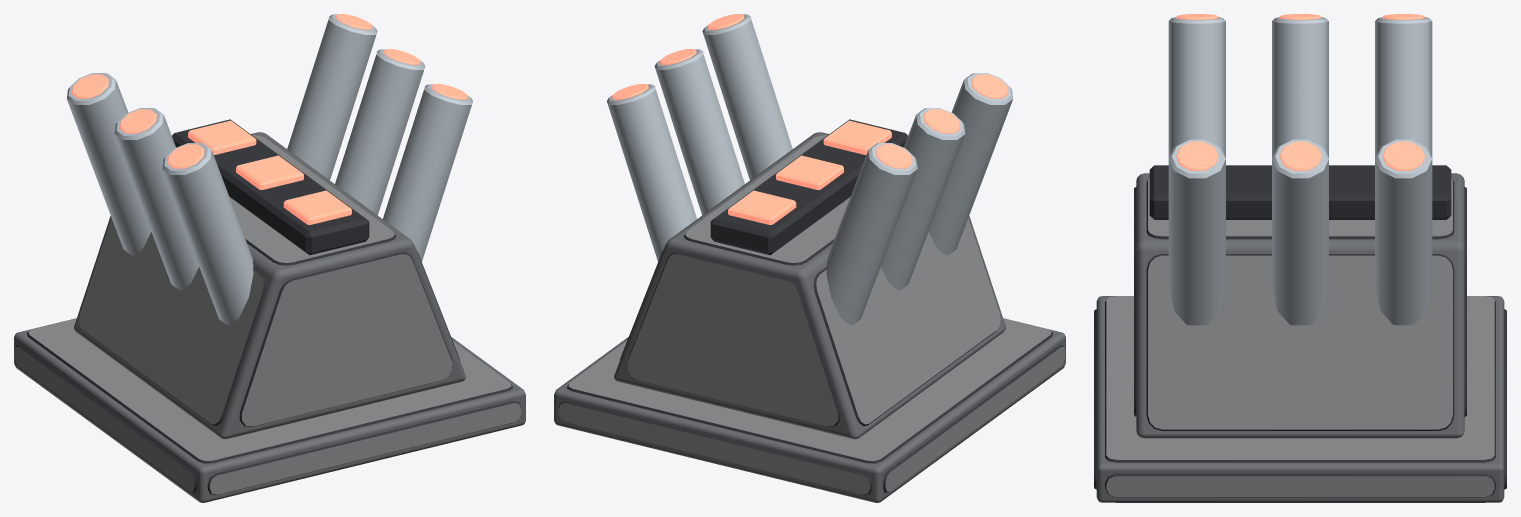
File: R4X_Overdrive.glb
3 views of the same model, side by side, from view 1: azimuth 30°, elevation 25°; view 2: azimuth 150°, elevation 25°; view 3: azimuth 270°, elevation 25° (orthographic). The views are drawn at different scales.
Visible parts, largest first — view 1: R4X_Overdrive_Body; view 2: R4X_Overdrive_Body; view 3: R4X_Overdrive_Body.
Boxes of the visible parts, left/top/right/bottom form: R4X_Overdrive_Body: left=14, top=14, right=525, bottom=502; R4X_Overdrive_Body: left=554, top=14, right=1065, bottom=502; R4X_Overdrive_Body: left=1094, top=14, right=1506, bottom=502.
Size of the model in its own units: 0.52 by 0.4747 by 0.52.
